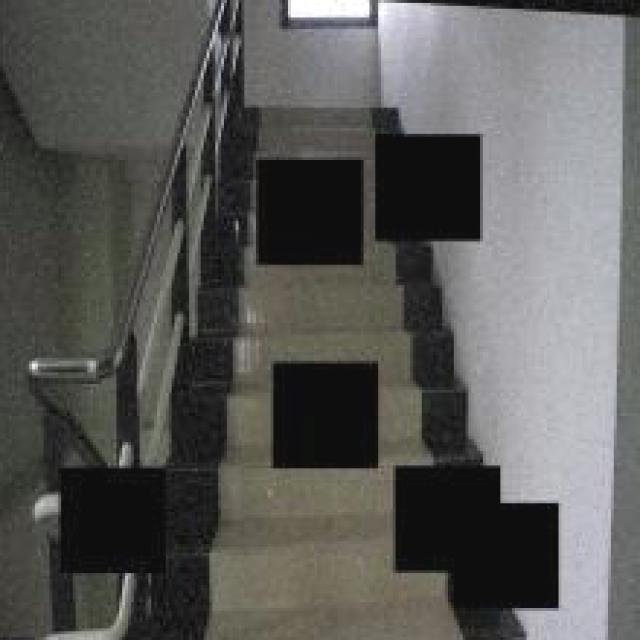upstair: (228, 105, 449, 640)
